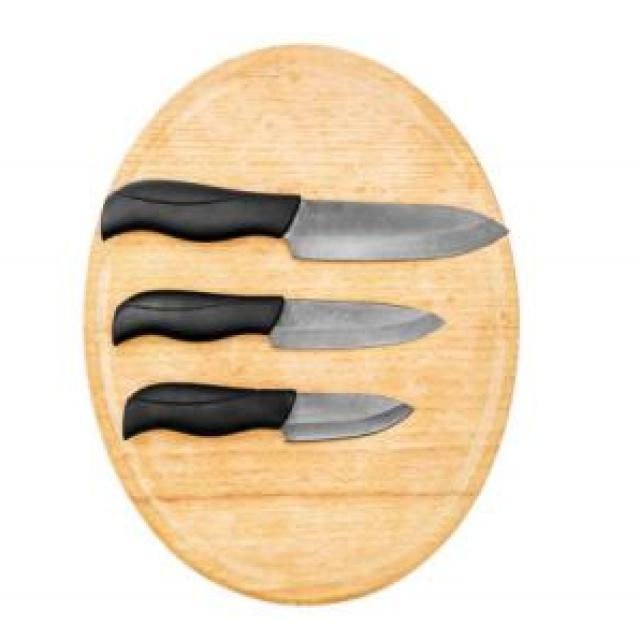knife: (99, 180, 509, 262), (113, 292, 449, 350), (118, 382, 415, 445)
